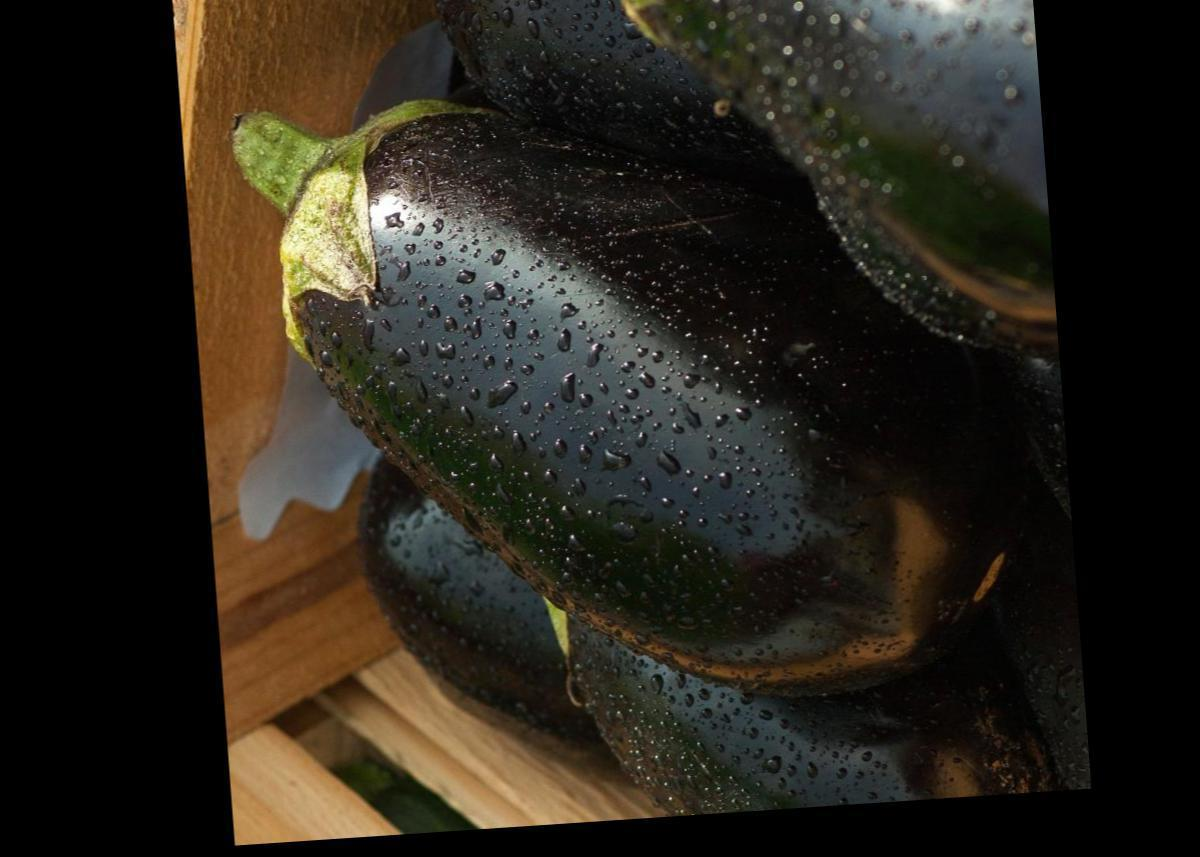eggplant: (263, 0, 1038, 714)
